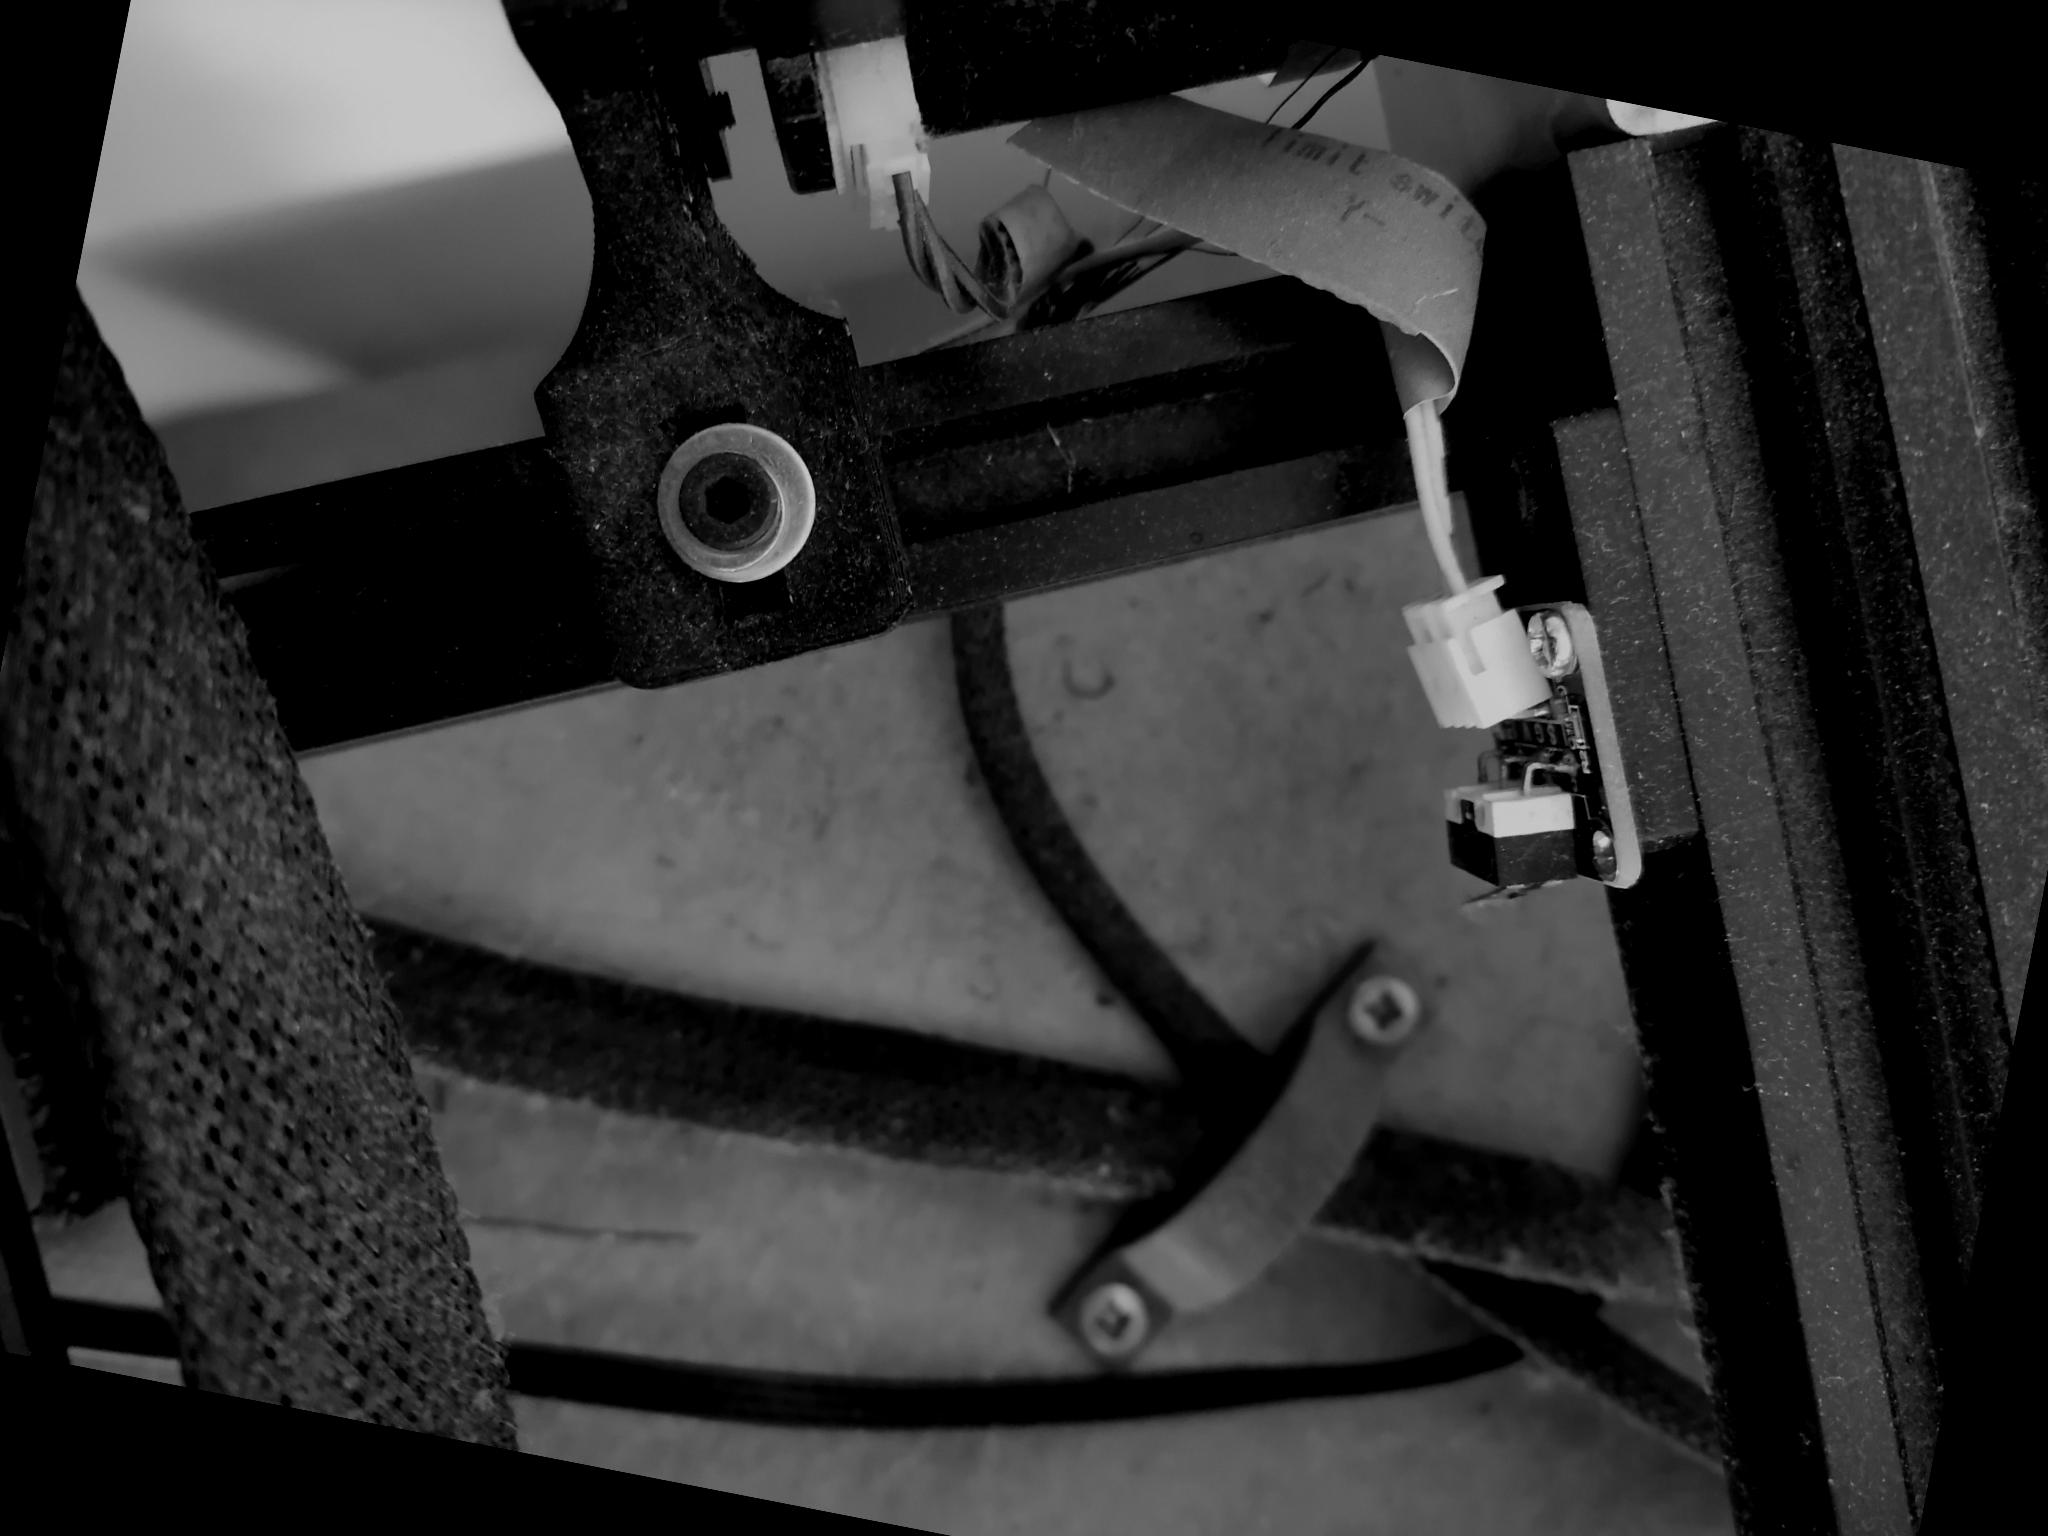screw: (664, 442, 795, 561), (1068, 1275, 1156, 1368), (1342, 970, 1426, 1055)
